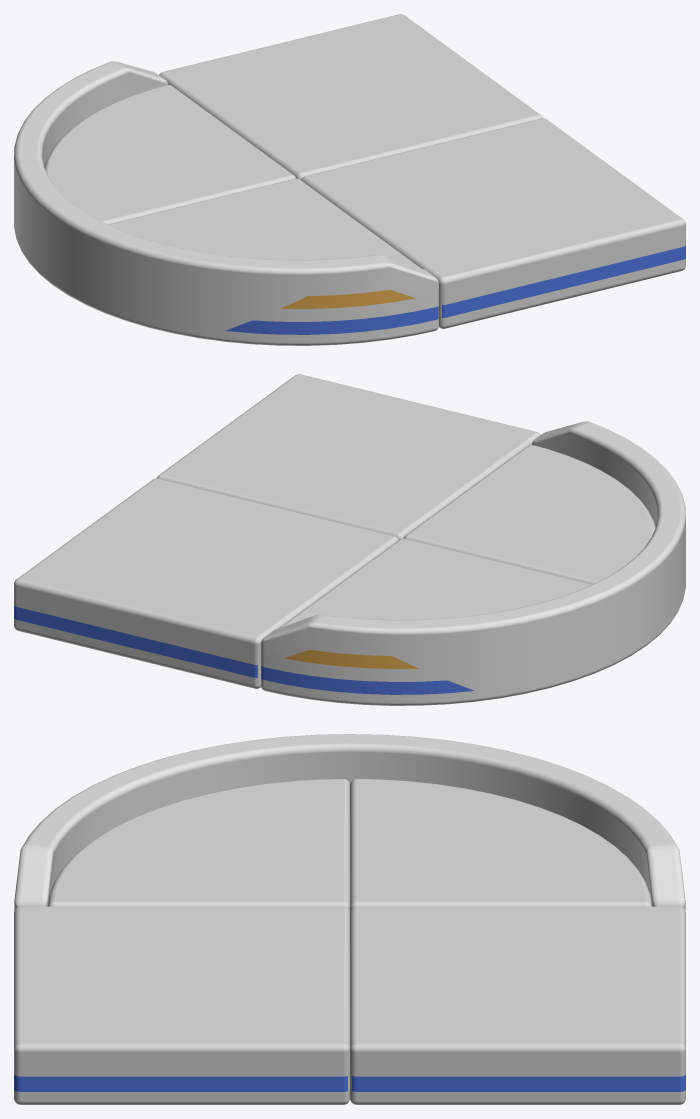
Rendered from lab_set_point.fbx.
3 renders of one model, top to bottom at view 1: azimuth 30°, elevation 25°; view 2: azimuth 150°, elevation 25°; view 3: azimuth 270°, elevation 25°, orthographic. The views are drawn at different scales.
Visible parts, largest first — view 1: start_floor, start_border; view 2: start_floor, start_border; view 3: start_floor, start_border.
Part boxes in pixels (<box>): start_floor: <box>44,14,685,328</box>; start_border: <box>14,61,438,345</box>; start_floor: <box>14,374,655,688</box>; start_border: <box>261,421,685,705</box>; start_floor: <box>14,779,685,1104</box>; start_border: <box>14,734,685,910</box>.
Size of the model in its own units: 100 by 15 by 100.
